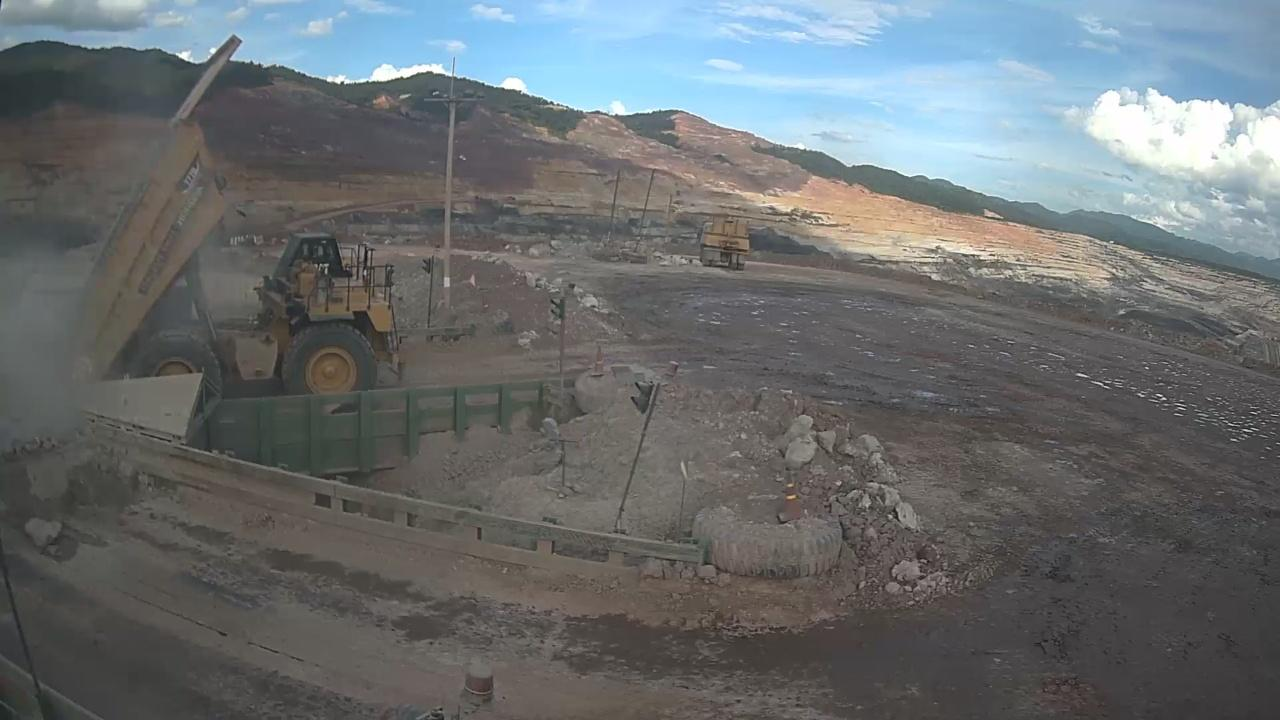dumping_soil: (44, 27, 412, 420)
